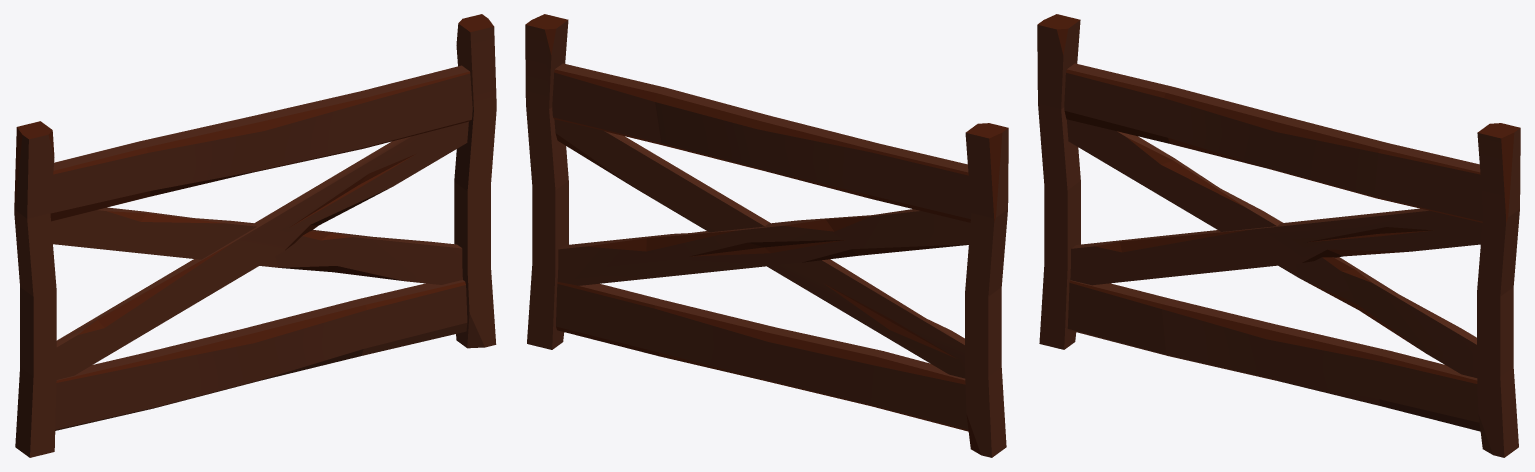
File: Fence_1.fbx
3 views of the same model, side by side, from view 1: azimuth 30°, elevation 25°; view 2: azimuth 150°, elevation 25°; view 3: azimuth 330°, elevation 25° (orthographic).
Visible parts, largest first — view 1: Fence_1; view 2: Fence_1; view 3: Fence_1.
Boxes of the visible parts, box(x1,y1,x2,y2) form: Fence_1: box(14, 14, 496, 457); Fence_1: box(525, 14, 1008, 457); Fence_1: box(1037, 14, 1520, 457).
Size of the model in its own units: 62 by 40.31 by 3.77.
